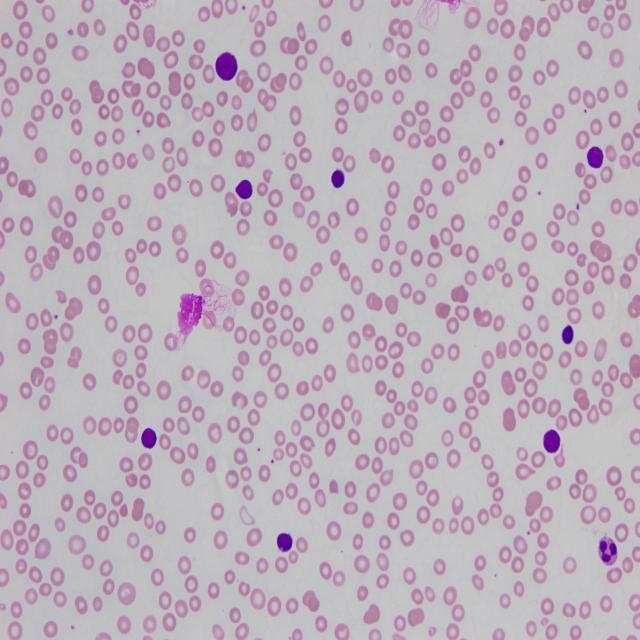cell: (215, 52, 238, 80), (599, 537, 618, 565), (542, 430, 560, 453), (235, 180, 252, 200), (588, 147, 604, 168), (276, 533, 292, 552), (141, 428, 156, 448), (331, 170, 345, 188), (562, 325, 574, 343)
